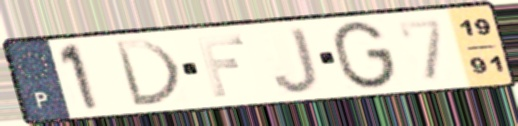1: (56, 41, 103, 115)
7: (394, 16, 447, 84)
D: (110, 37, 185, 108)
F: (194, 33, 248, 99)
G: (330, 19, 399, 92)
J: (270, 24, 322, 96)
